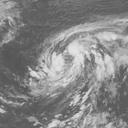cyclone: (26, 17, 127, 105)
